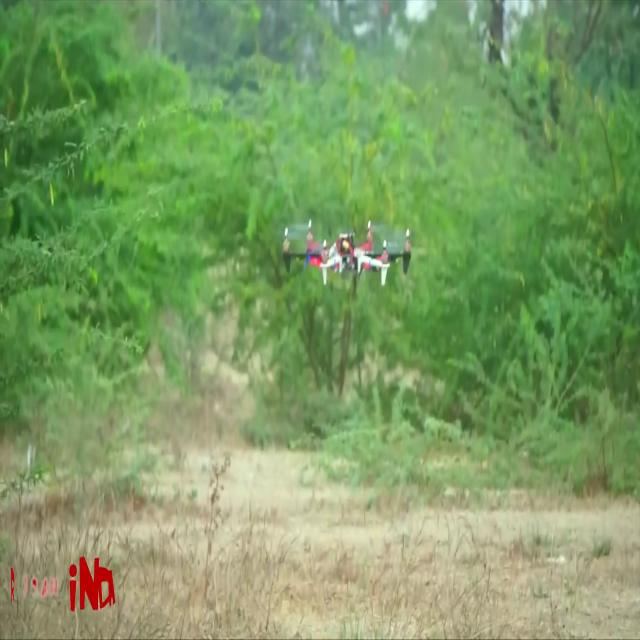drone: (259, 192, 423, 303)
